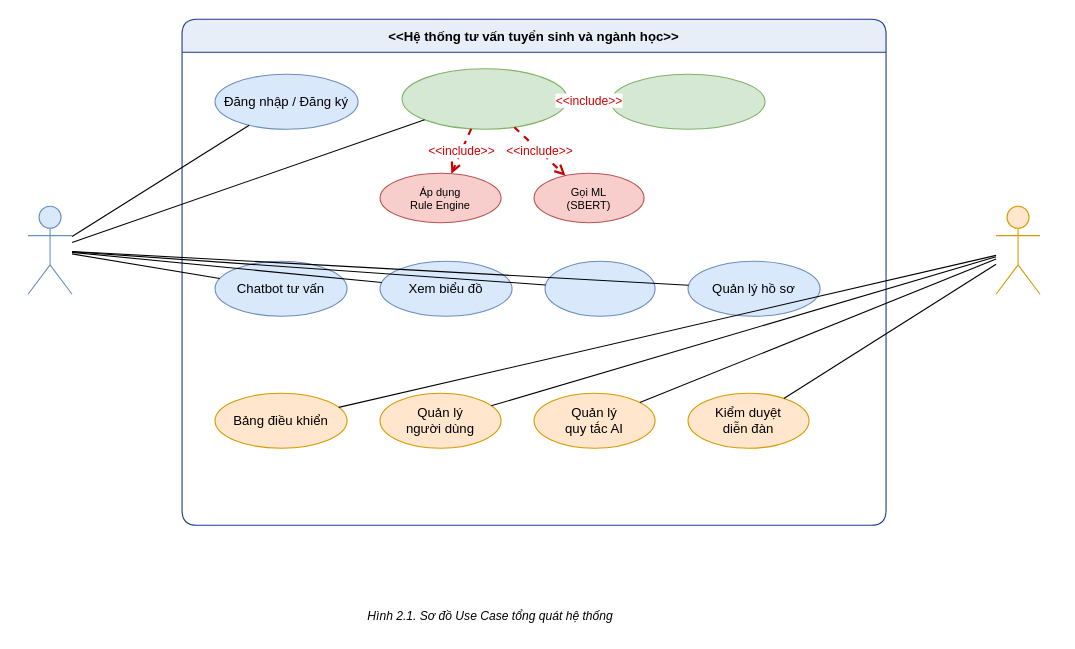
Image size: 1075x649. Some labels were removed from this diagram. The centre of each missing label's shape, as x and y in pixels:
"Diễn đàn" goes at (x=599, y=288).
"Gợi ý ngành học (Wizard)" goes at (x=484, y=98).
"Người học (User)" goes at (x=49, y=249).
"Quản trị viên (Admin)" goes at (x=1017, y=249).
"Xem kết quả gợi ý" goes at (x=687, y=101).
